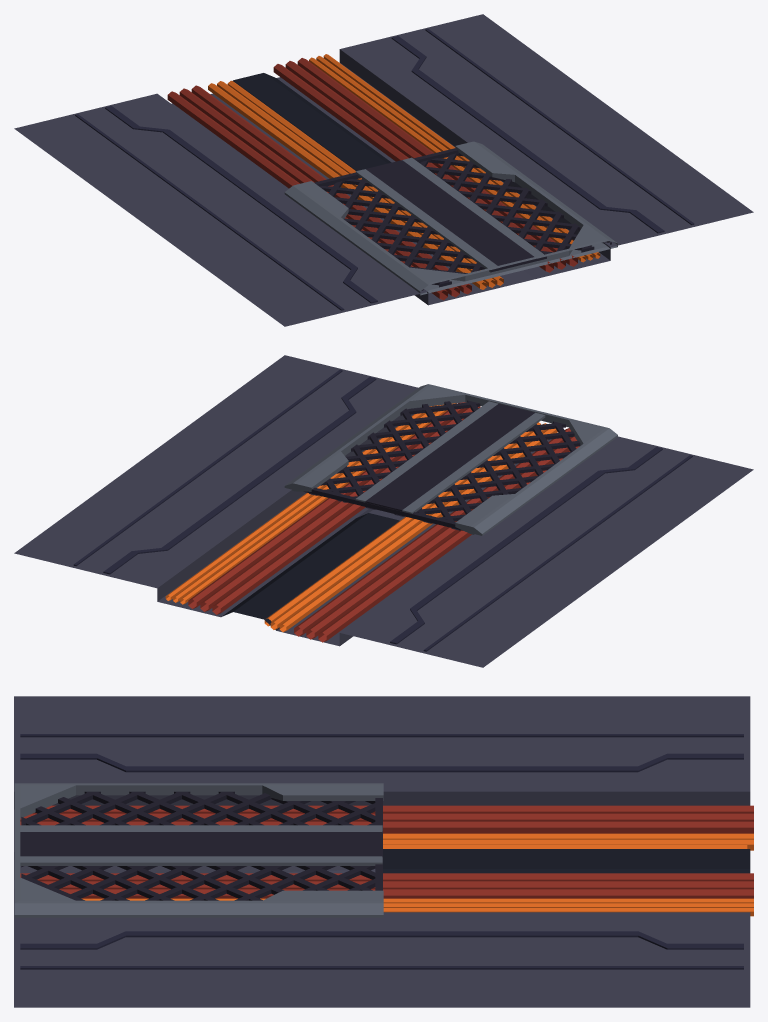
Rendered from groundWireD.fbx.
3 renders of one model, top to bottom at view 1: azimuth 30°, elevation 25°; view 2: azimuth 150°, elevation 25°; view 3: azimuth 270°, elevation 25°, orthographic. The views are drawn at different scales.
Parts seen in each view (by area): view 1: groundWireD; view 2: groundWireD; view 3: groundWireD.
Boxes of the visible parts, x1,y1,x2,y2 form: groundWireD: (14,14,753,326); groundWireD: (14,355,753,667); groundWireD: (14,696,753,1007).
Bounding box in the file's own units: 400 × 16.36 × 402.
